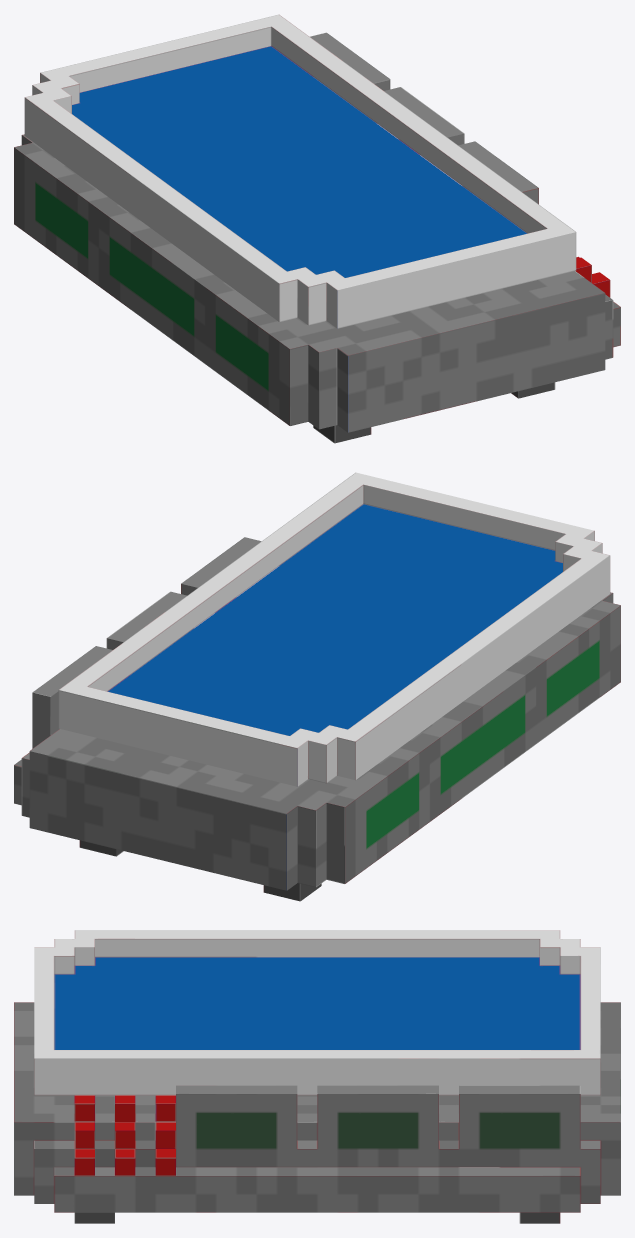
Rendered from Escenario 3 chocorramosurvivor-0-5.obj.
3 views of the same model, one above another, from view 1: azimuth 30°, elevation 25°; view 2: azimuth 150°, elevation 25°; view 3: azimuth 270°, elevation 25° (orthographic). The views are drawn at different scales.
Parts seen in each view (by area): view 1: Escenario_3_chocorramosurvivor-0-5; view 2: Escenario_3_chocorramosurvivor-0-5; view 3: Escenario_3_chocorramosurvivor-0-5.
Part boxes in pixels (<box>): Escenario_3_chocorramosurvivor-0-5: <box>14,14,620,443</box>; Escenario_3_chocorramosurvivor-0-5: <box>14,472,620,901</box>; Escenario_3_chocorramosurvivor-0-5: <box>14,930,620,1223</box>.
Size of the model in its own units: 1.8 by 0.9 by 3.
1 material, 1 textured.
